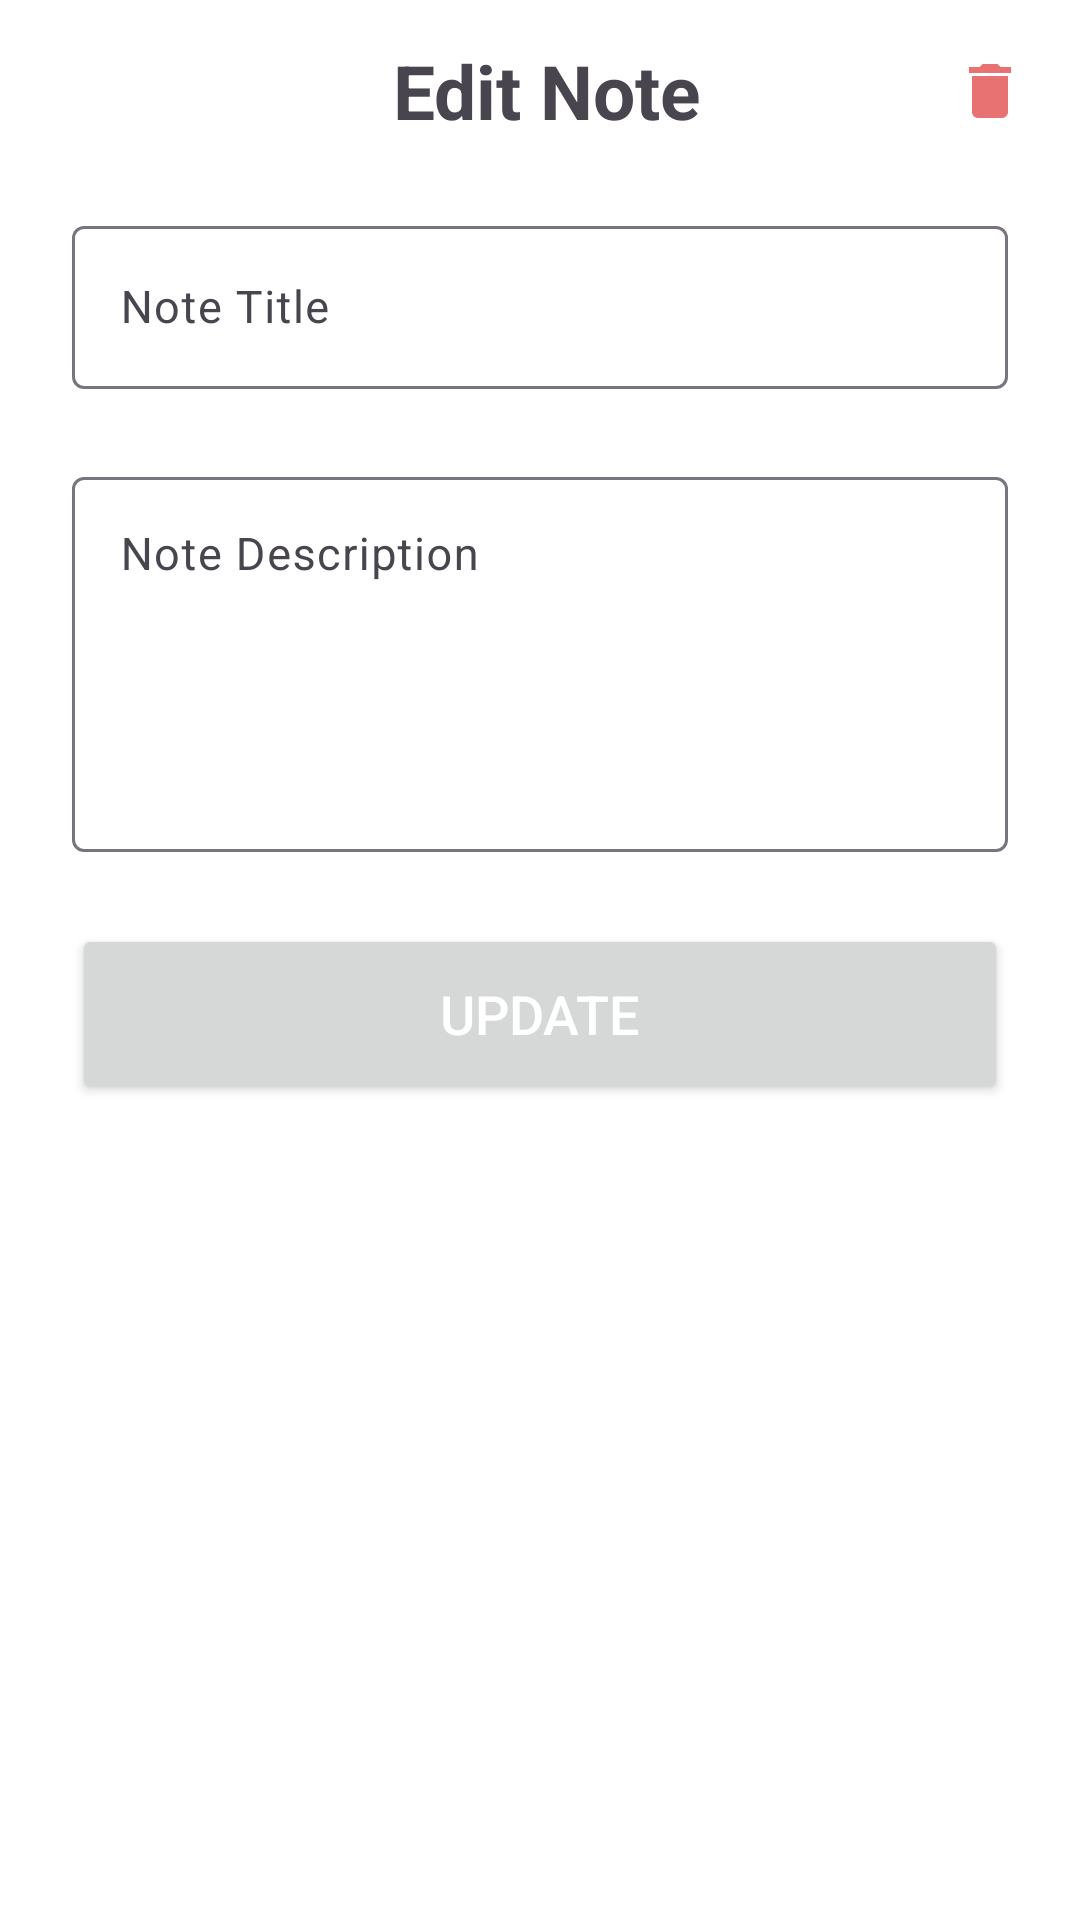

Icon click points for this 1080 × 1920 phone screenshot, format [x,y]:
delete: [990,91]
